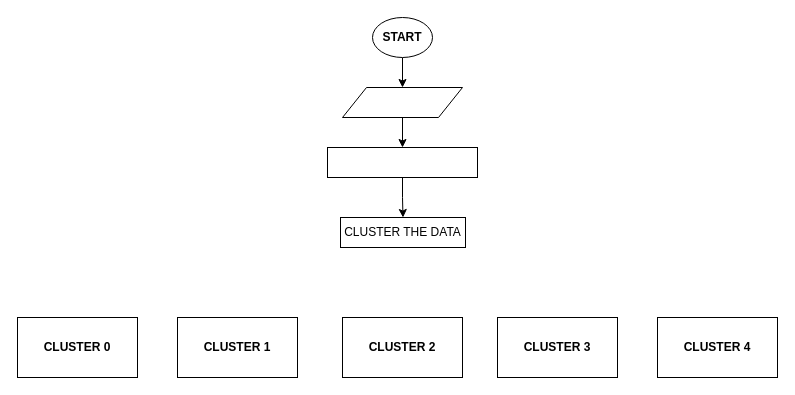
Some shapes in this 795 by 395 pixel diagram are drawn without their labels. The box of each missing label's shape, as (x1, y1, x2, y2) in pixels:
BCL_DATA: (342, 86, 462, 118)
PREPROCESS THE DATA: (326, 146, 478, 178)
